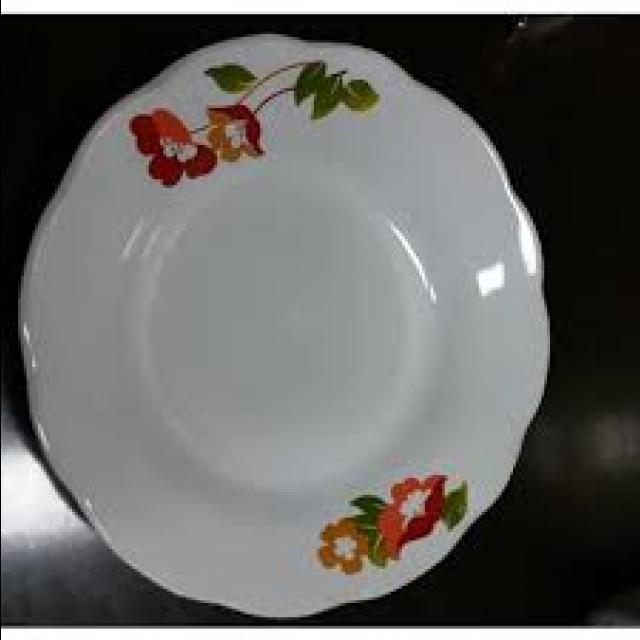plate: (14, 28, 556, 620)
